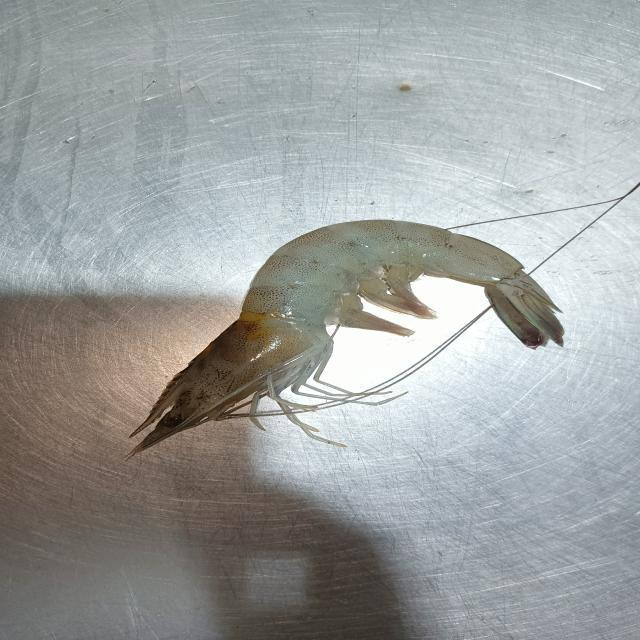shrimp: (130, 221, 563, 449)
